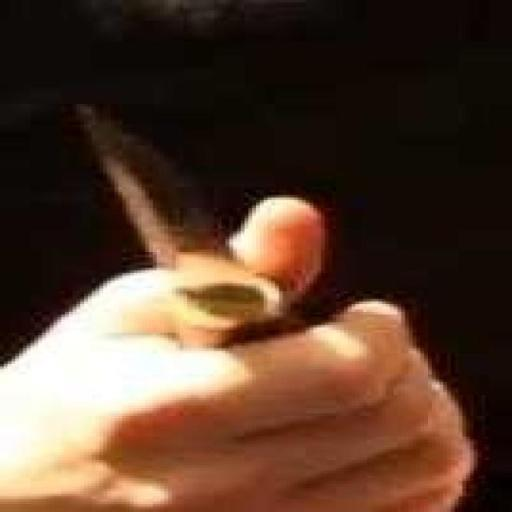knife: (66, 72, 396, 422)
